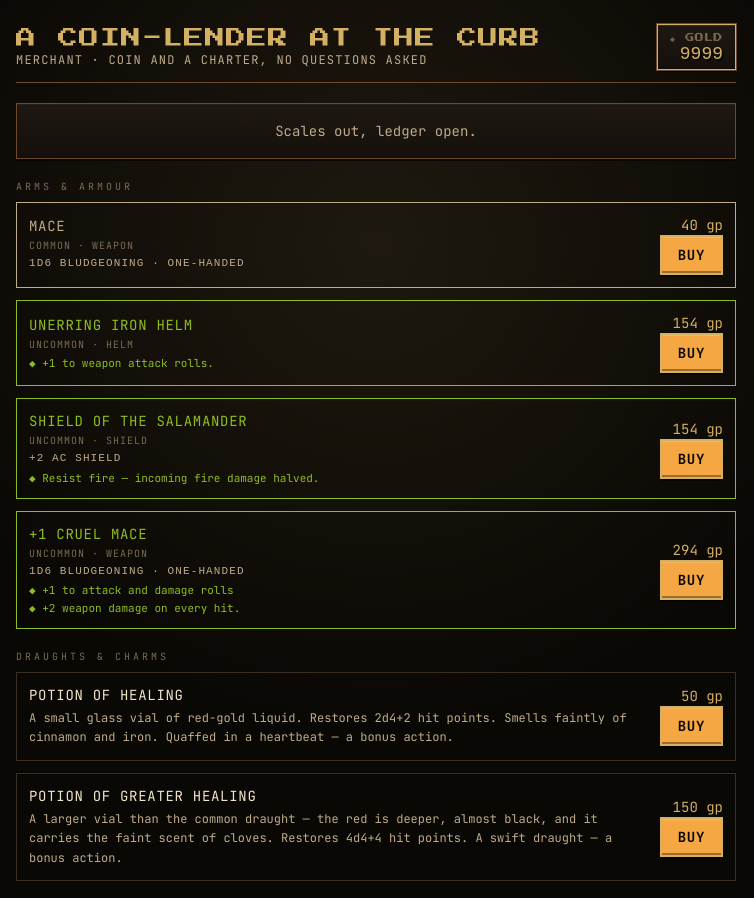
Test: ShopRoom — merchant node › keeps a bought arms-rack item SOLD across a re-open of the same shop
The width and height of the screenshot is (754, 898).
Click the button "Buy" below "40 gp".
click(691, 255)  # box [660, 235, 723, 275]
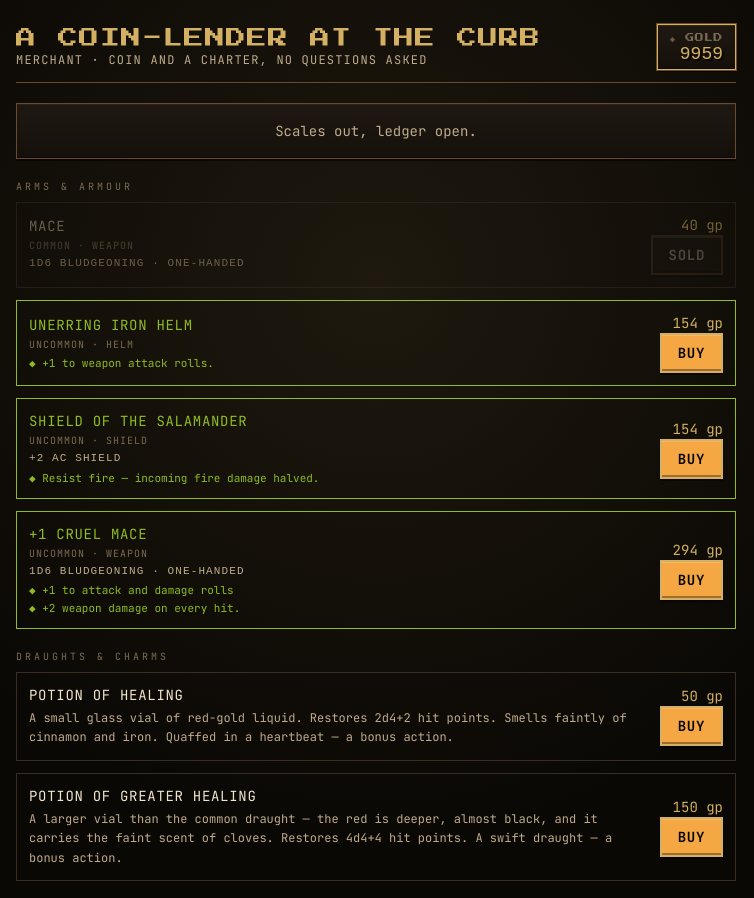
expect the button "Sold" is shown: met, box [651, 235, 723, 275]
